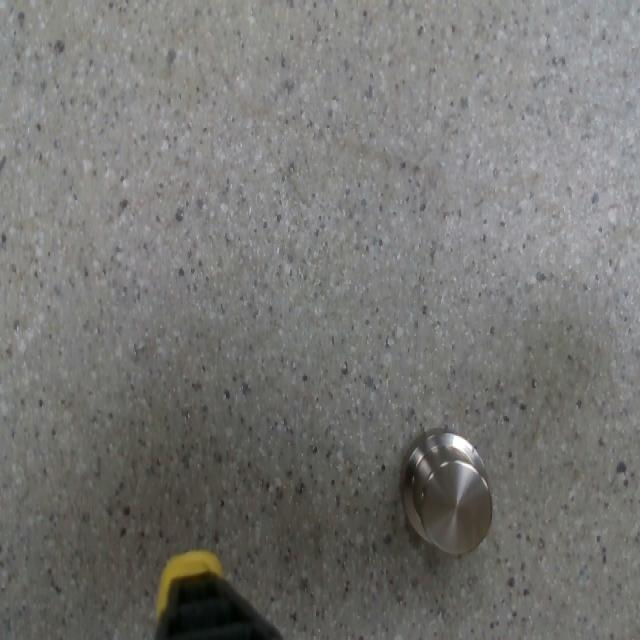sensor: (399, 426, 493, 554)
